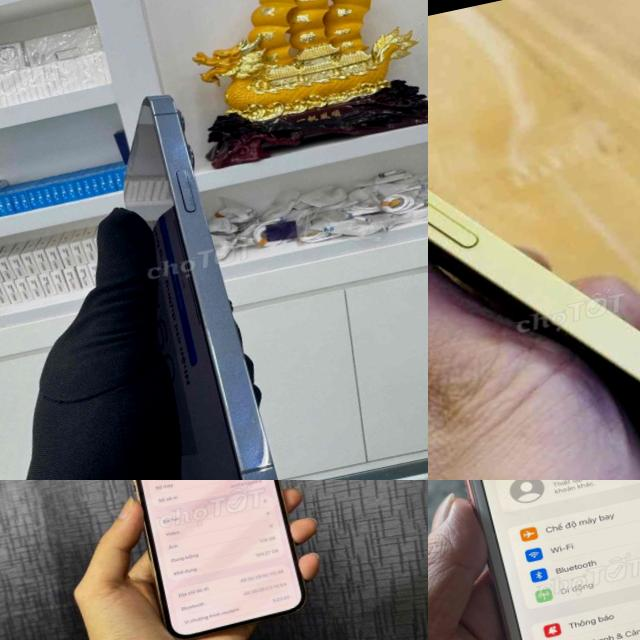gen_12_13: (81, 77, 303, 480), (105, 480, 311, 640)
gen_14: (428, 0, 640, 480)
gen_7_8: (428, 480, 640, 640)
